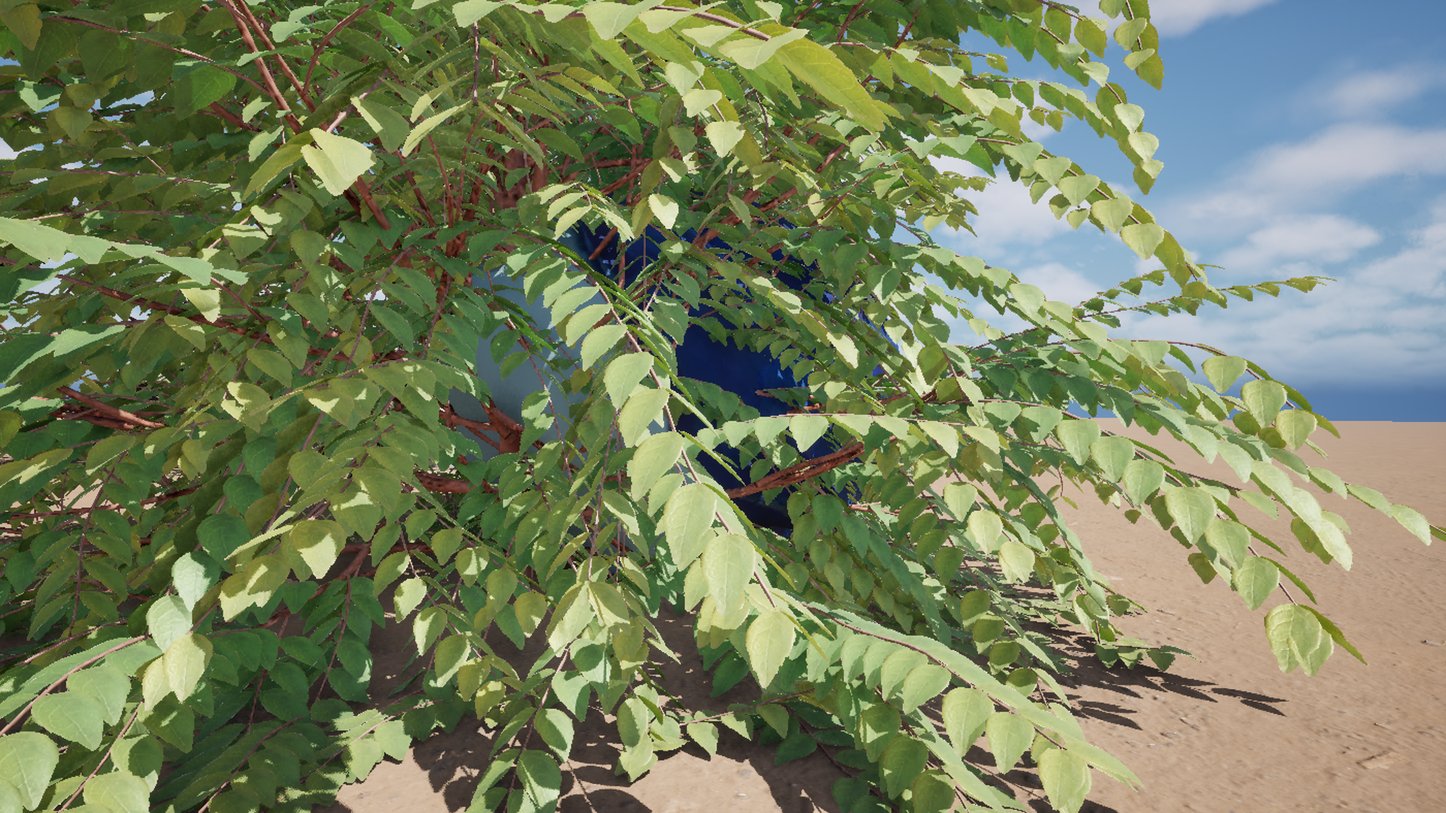Piplup: (331, 0, 1099, 813)
